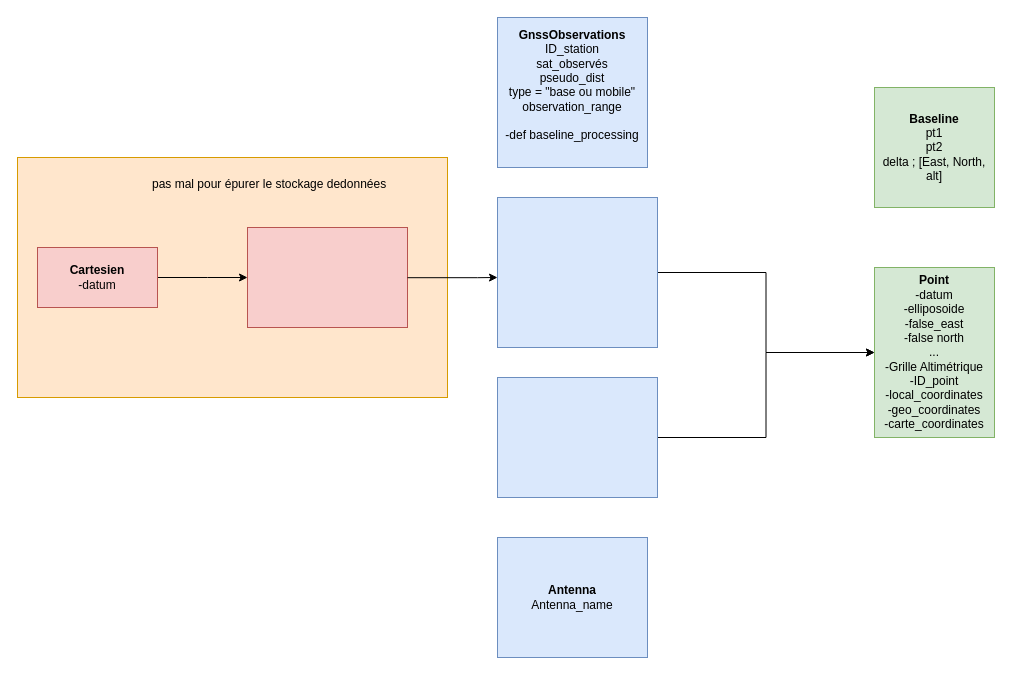
Some shapes in this 1012 by 675 pixel diagram are drawn without their labels. The shapes that lost their labels are listed below. From the top down, each one's centre as x and y in pixels, then its label:
the point at 327,277: Geographic -datum -ellpsoide -def syst_transforamtion
the point at 577,272: Plane -datum -elliposoide -false_east -false north ...
the point at 577,437: Geoid -Grille Altimétrique
